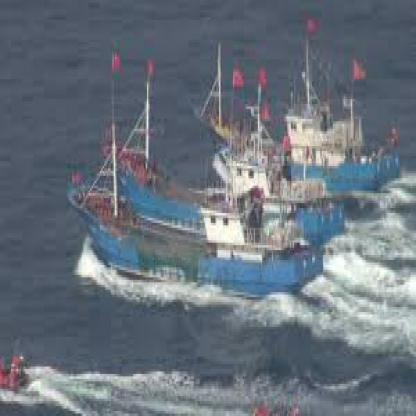fish-b: (200, 5, 412, 208), (58, 168, 333, 310)
